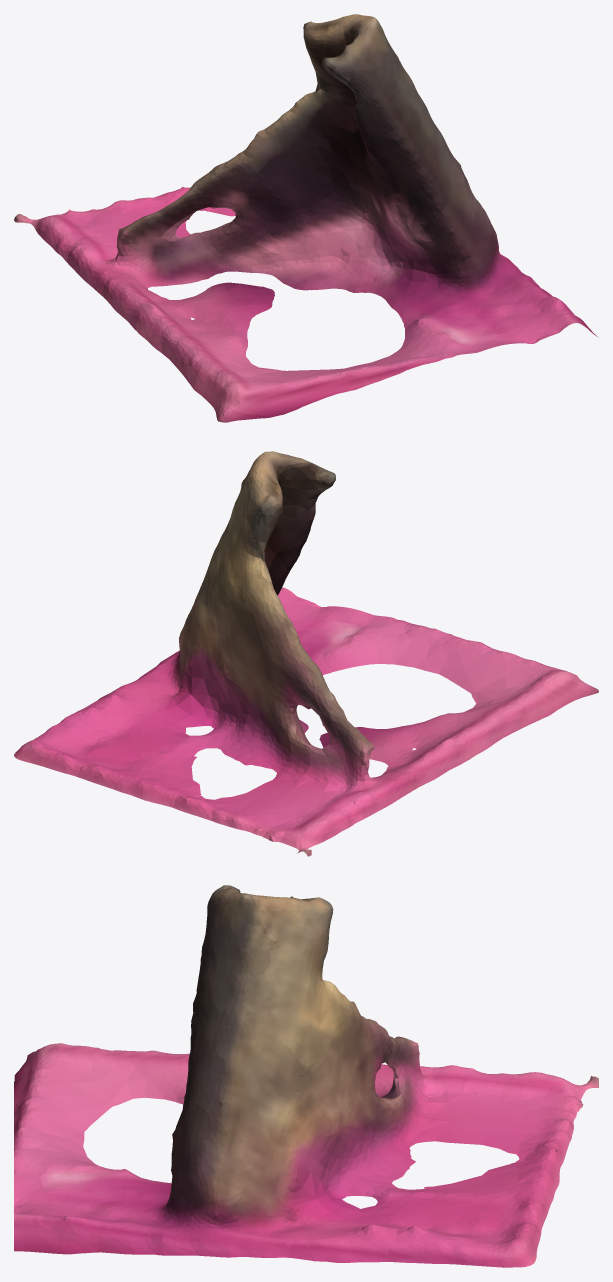
File: Razor Head OLF 2025.gltf
The picture shows the model from 3 angles, top to bottom: view 1: azimuth 30°, elevation 25°; view 2: azimuth 150°, elevation 25°; view 3: azimuth 270°, elevation 25°; orthographic projection. The views are drawn at different scales.
Parts seen in each view (by area): view 1: Node1; view 2: Node1; view 3: Node1.
Boxes of the visible parts, x1,y1,x2,y2 form: Node1: (14,14,598,422); Node1: (14,451,598,856); Node1: (14,885,598,1267).
Bounding box in the file's own units: 0.057 × 0.0363 × 0.0656.
Materials: 1 (1 with a texture image).
